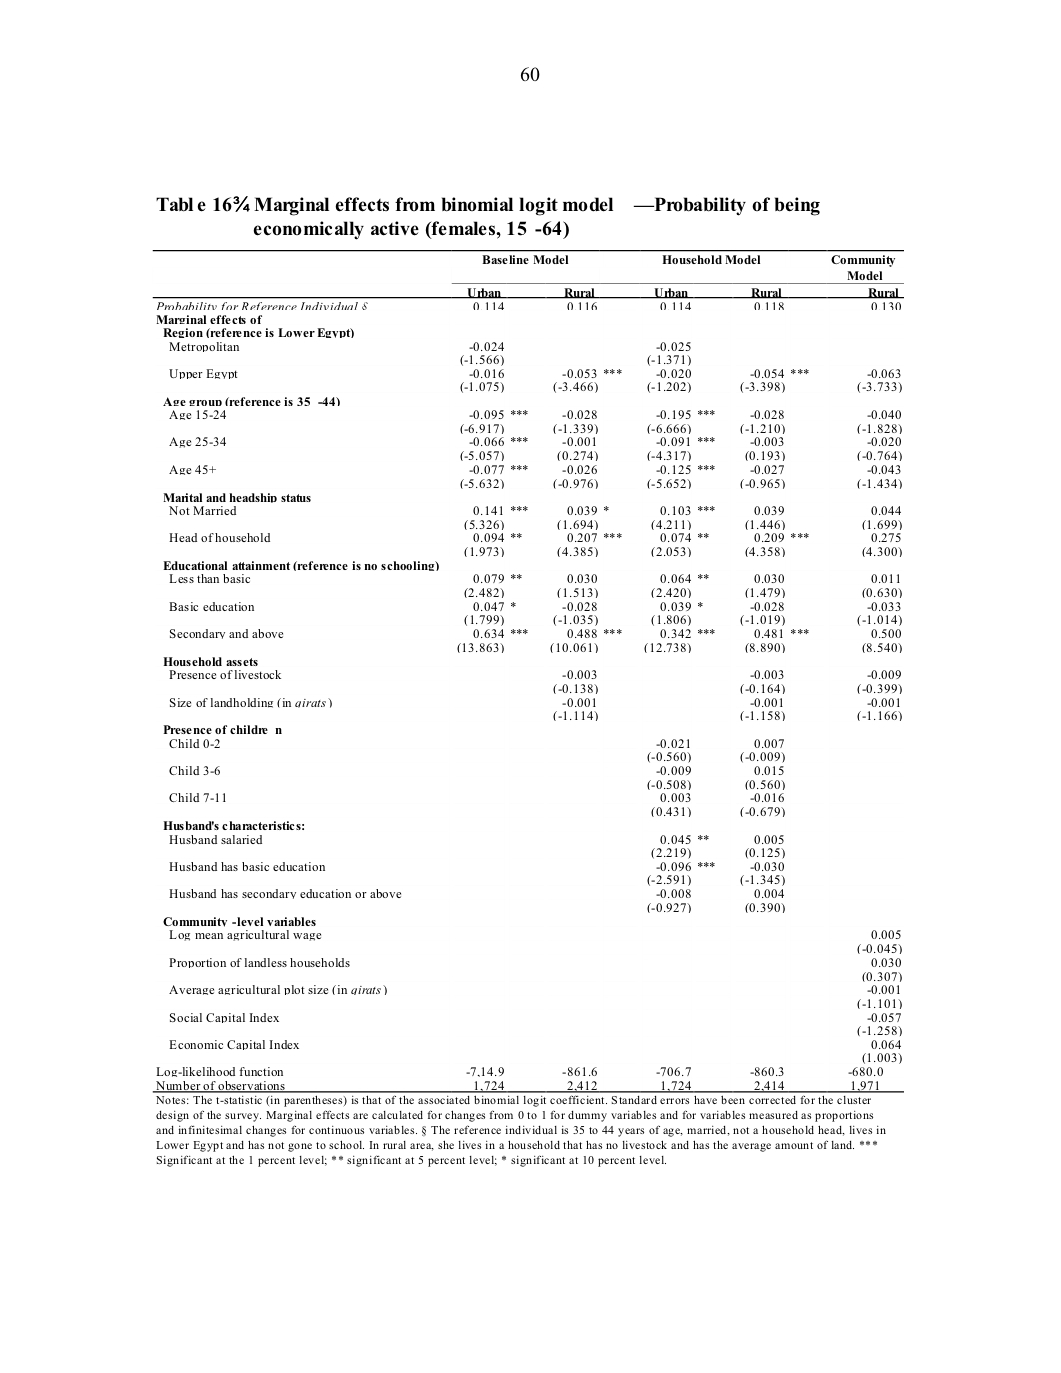Table: (152, 250, 903, 1092)
